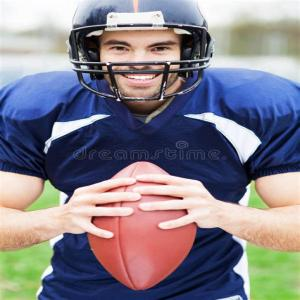Rugby: (88, 160, 196, 290)
